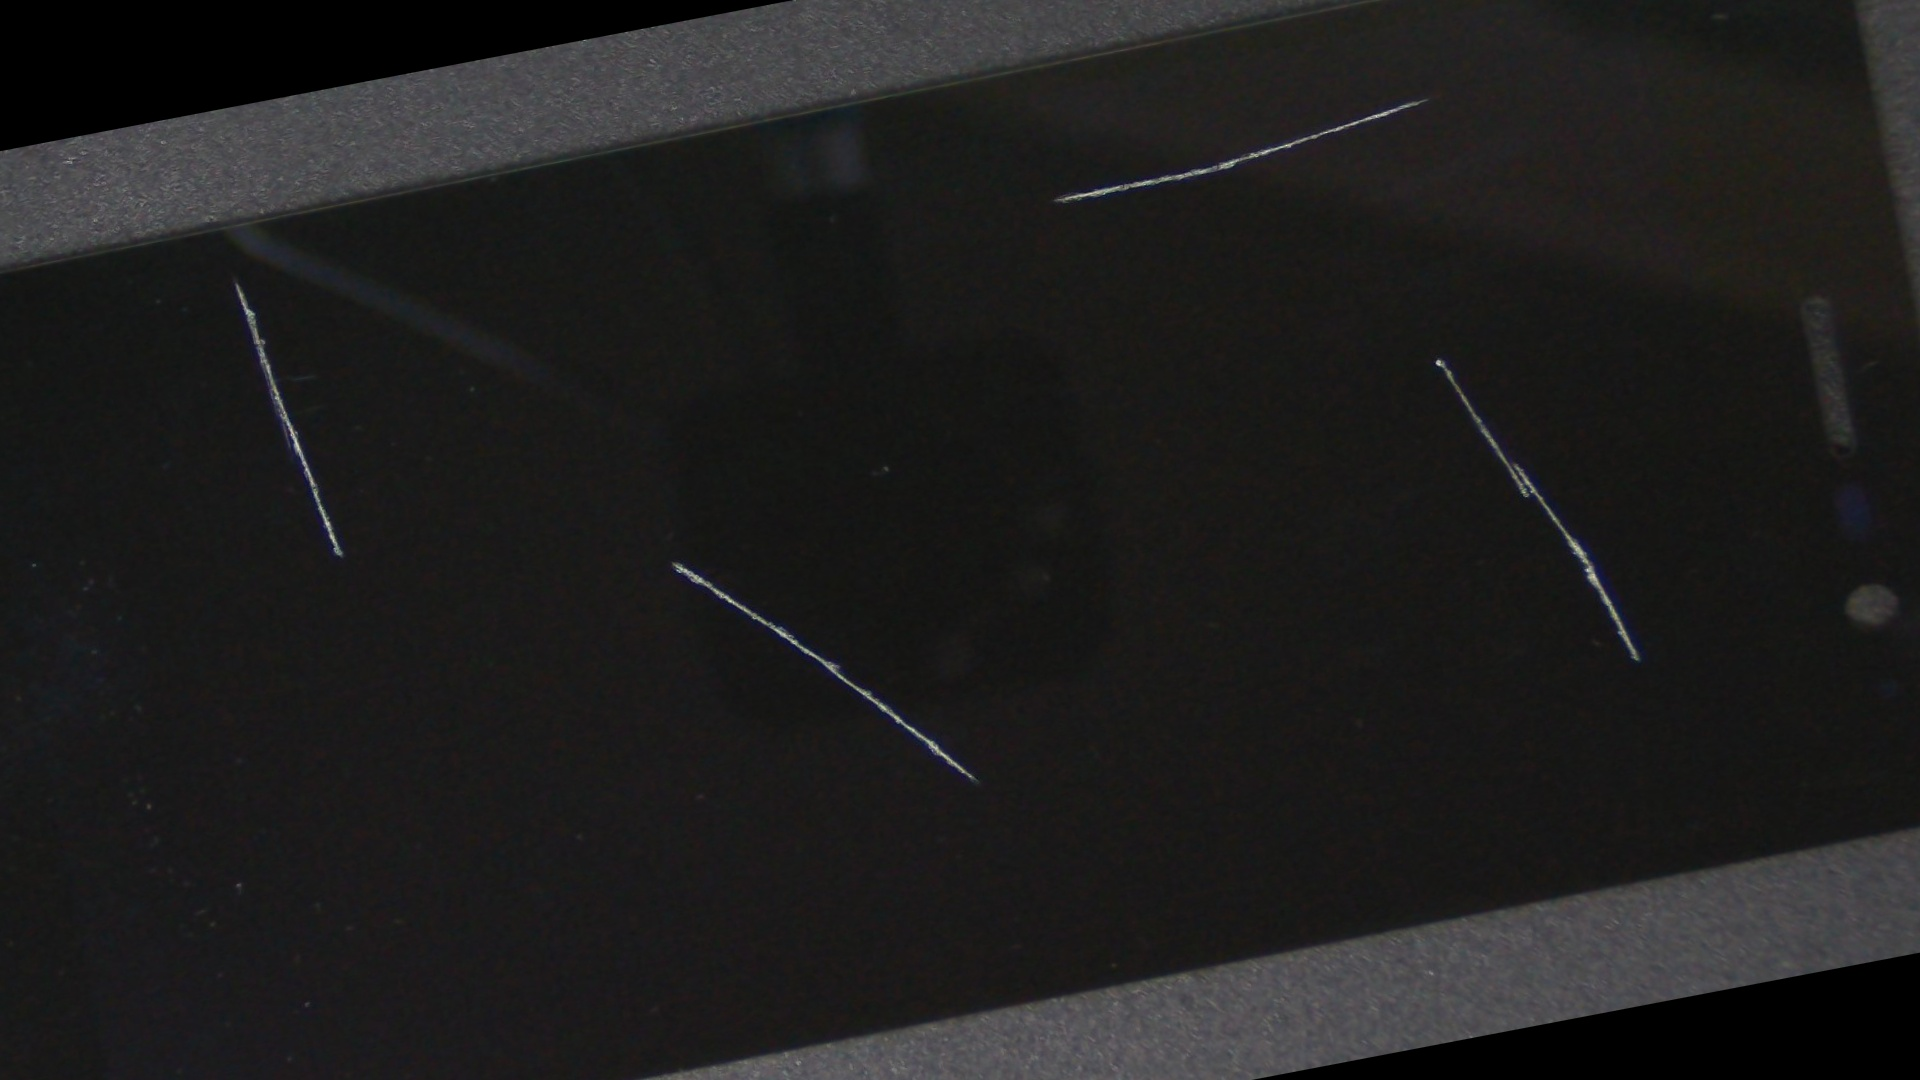oil: (543, 21, 1920, 752), (162, 214, 1180, 907), (529, 0, 1920, 371), (0, 140, 524, 425)
